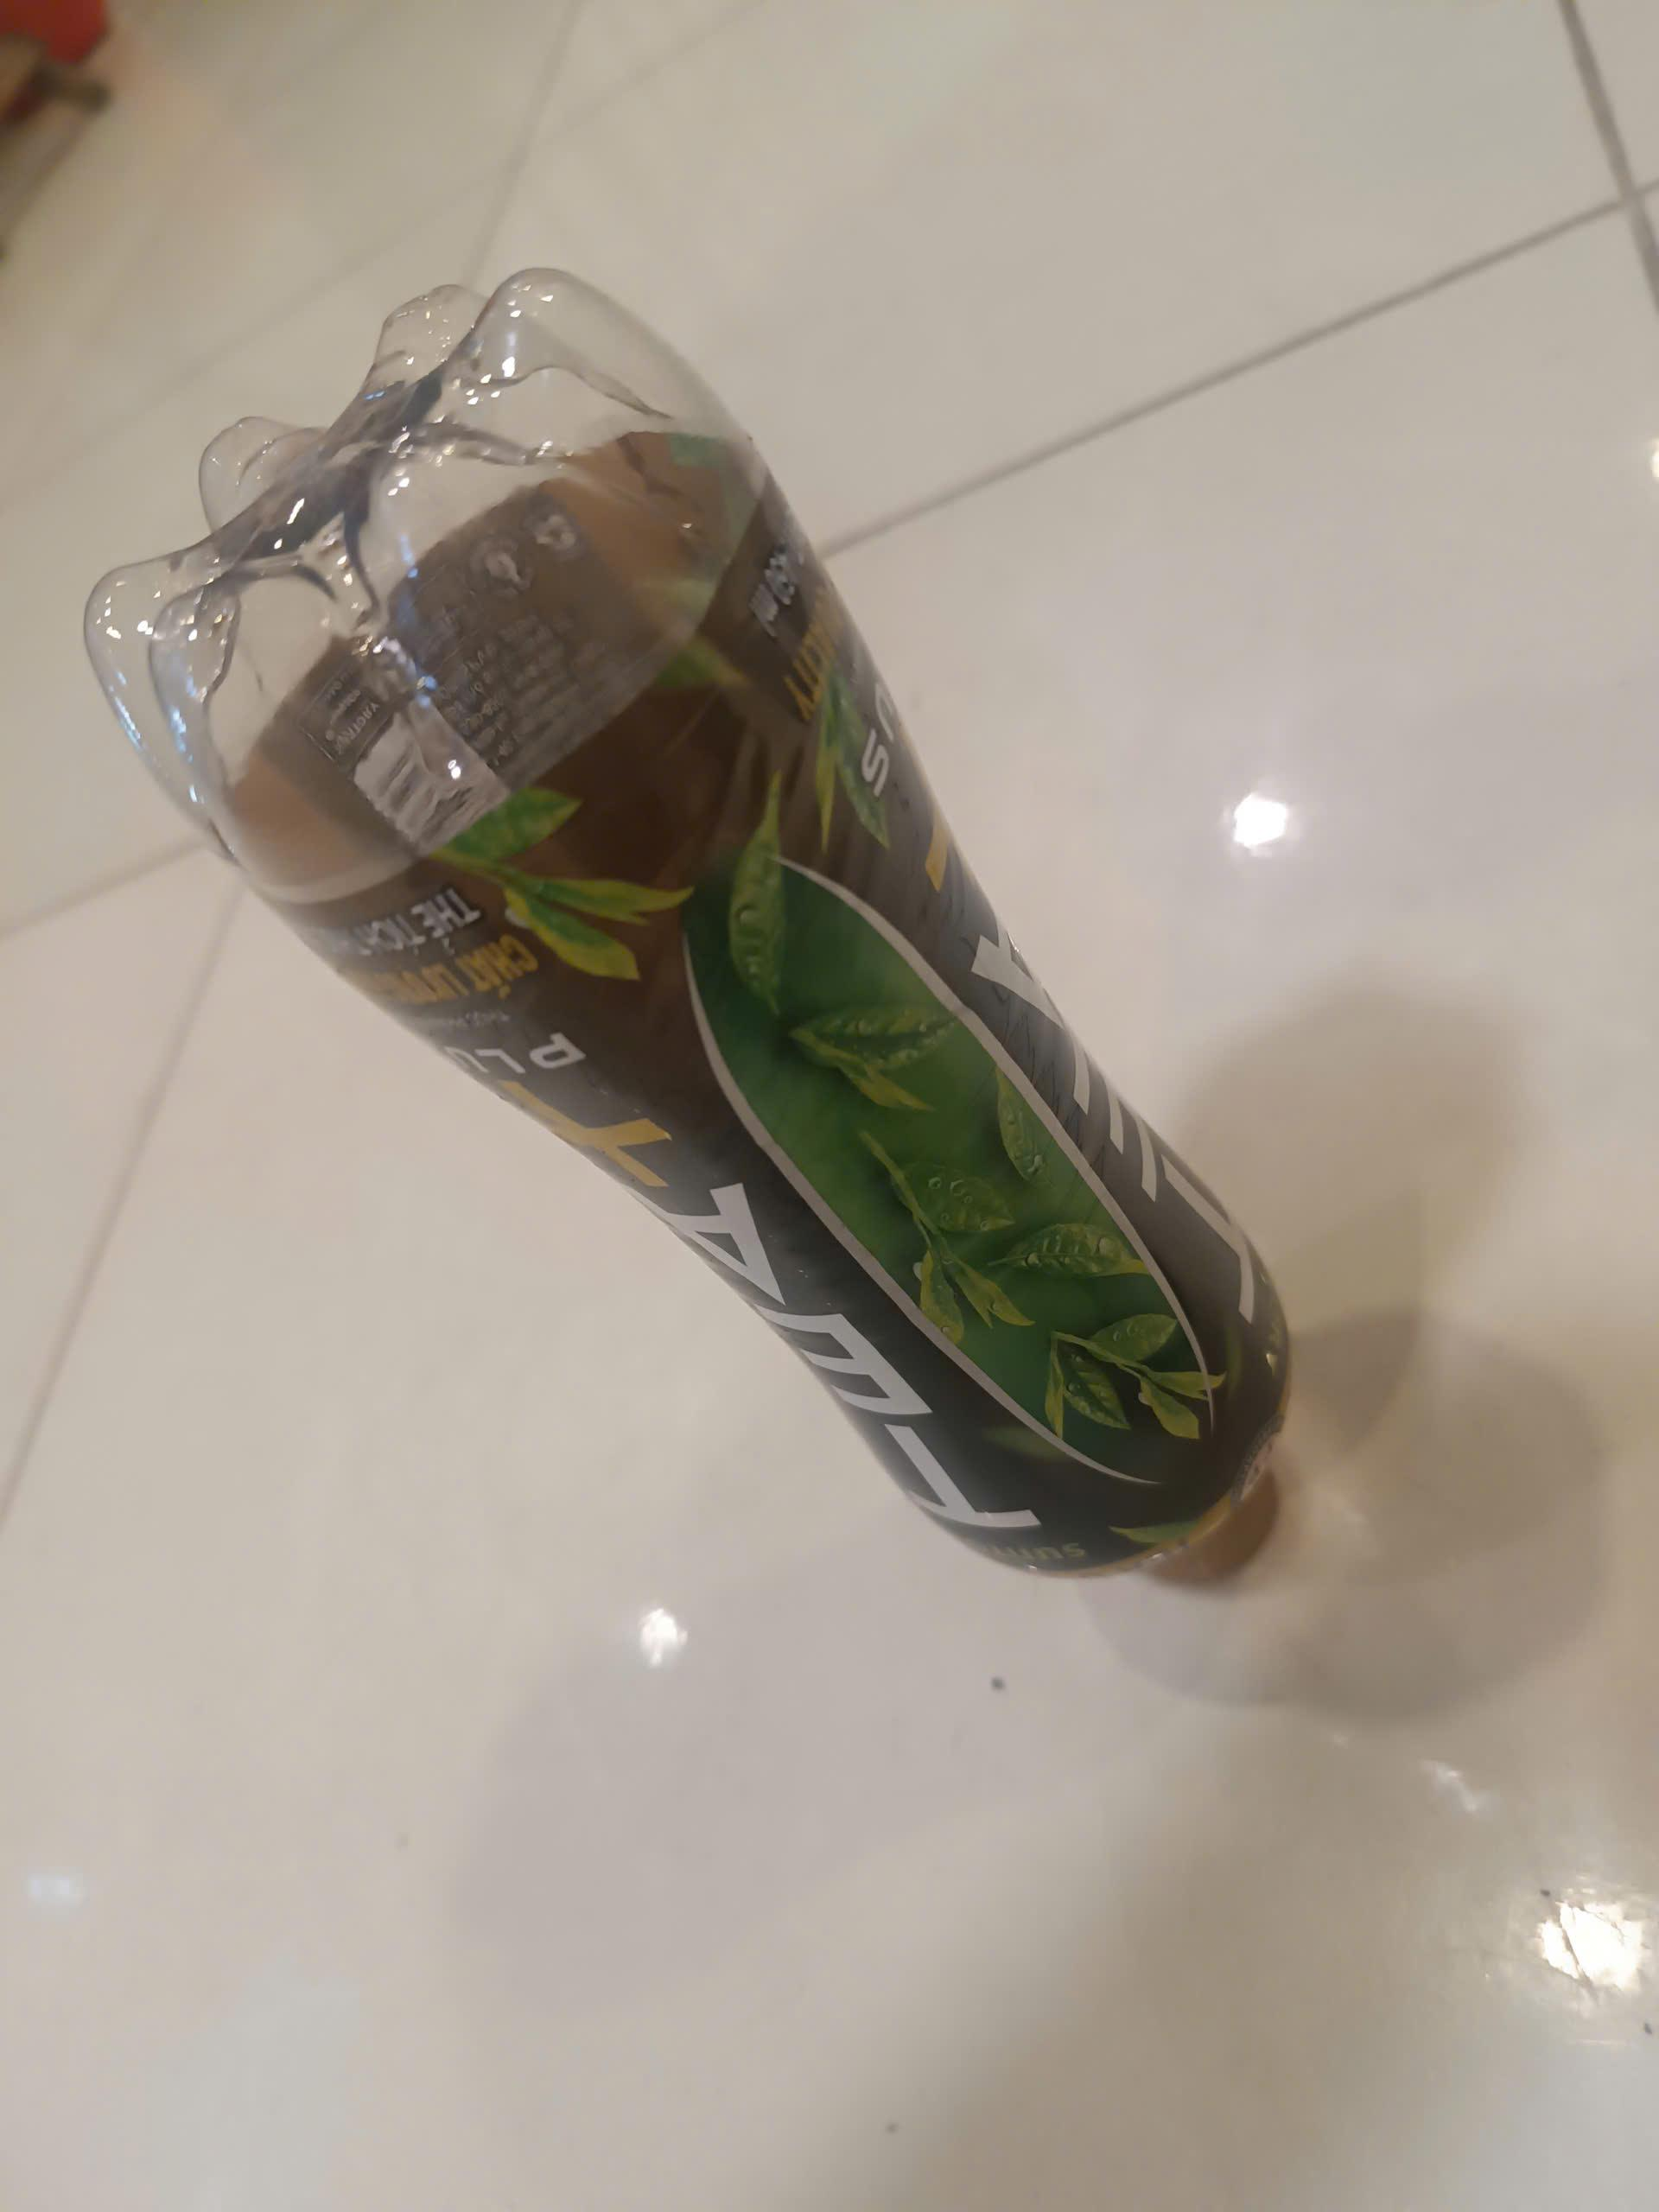Vo co: (87, 268, 1293, 1592)
